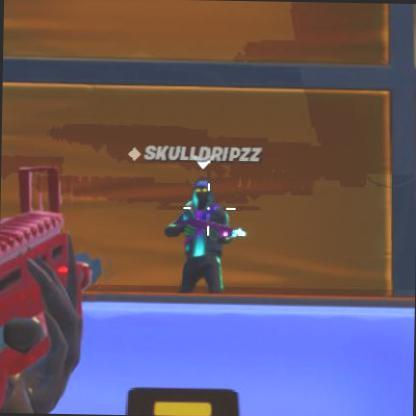Person: (165, 180, 234, 300)
